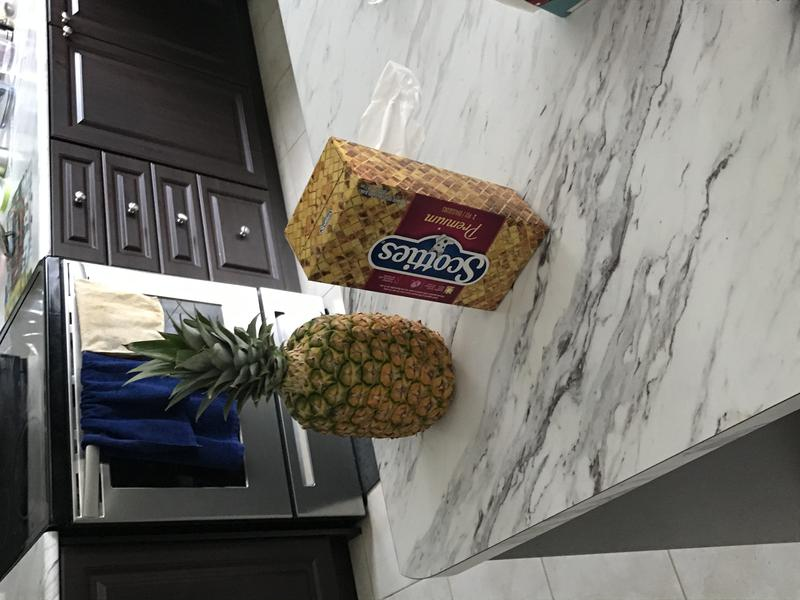pineapple: (110, 307, 462, 442)
